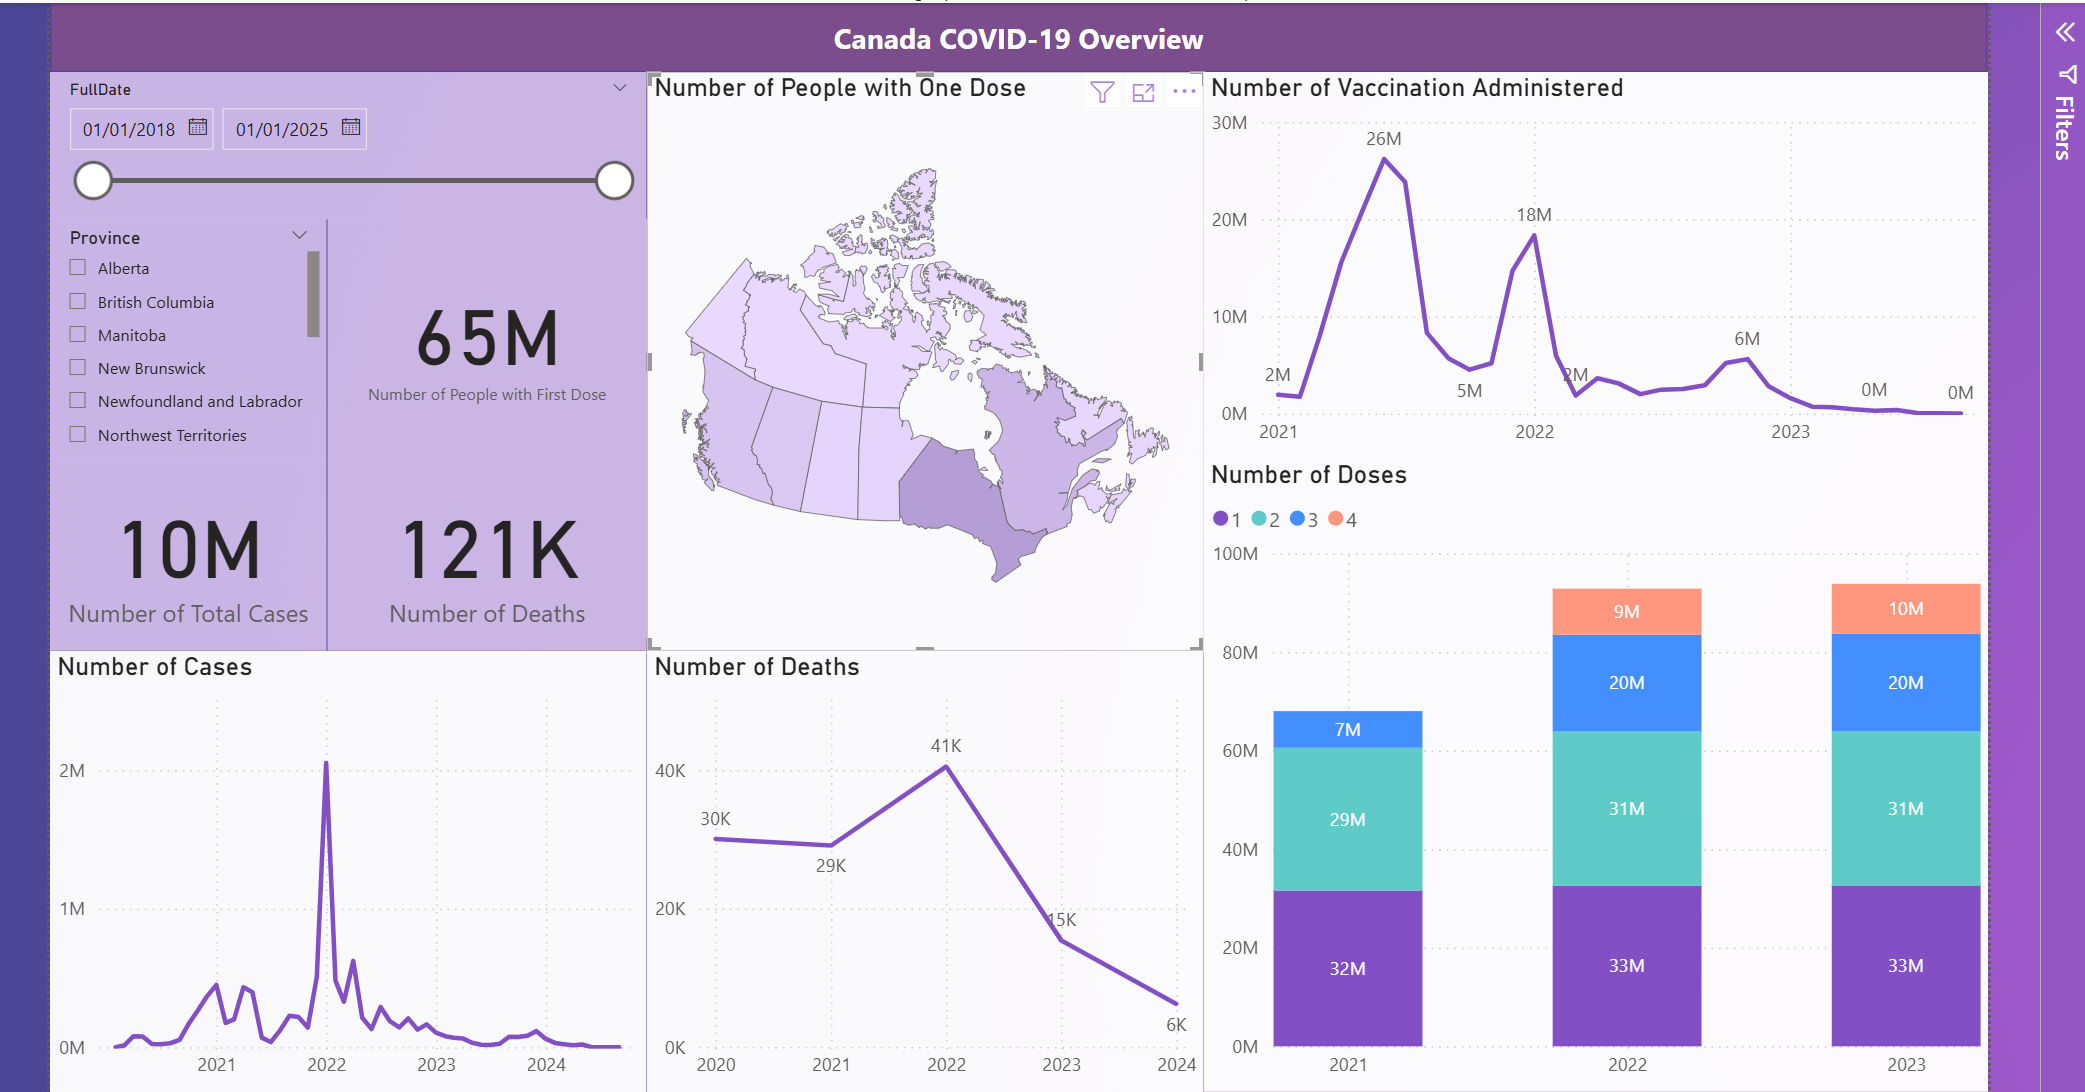

Layout of this report page (visuals, bound fields, positions):
{"tool":"powerbi","page":{"name":"Page 1","canvas":[1280,720],"ordinal":0},"visuals":[{"type":"shape","box":[0,0,1280,45.7],"z":0},{"type":"slicer","fields":{"Values":["dim_date.FullDate"]},"box":[0,45.7,393.9,97.3],"z":1000},{"type":"slicer","fields":{"Values":["dim_province.prname"]},"box":[0,143,182.9,158.5],"z":2000},{"type":"card","fields":{"Values":["Sum(fact_covid.numcases_weekly)"]},"box":[0,301.5,182.9,126.4],"z":3000},{"type":"card","fields":{"Values":["Sum(fact_covid.numdeaths_weekly)"]},"box":[182.9,301.5,211.1,126.4],"z":4000},{"type":"card","fields":{"Values":["Sum(fact_vaccination.First Vaccines this Week)"]},"box":[182.9,143,211.1,158.5],"z":5000},{"type":"shapeMap","title":"Number of People with One Dose","fields":{"Category":["dim_province.prname"],"Value":["Sum(fact_vaccination.First Vaccines this Week)"]},"box":[393.9,45.7,367.7,382.2],"z":6000},{"type":"lineChart","title":"Number of Cases","fields":{"Category":["dim_date.FullDate.Variation.Date Hierarchy.Year","dim_date.FullDate.Variation.Date Hierarchy.Month","dim_date.FullDate.Variation.Date Hierarchy.Day"],"Y":["Sum(fact_covid.numcases_weekly)"]},"box":[0,428.1,394,291.9],"z":7000},{"type":"lineChart","title":"Number of Deaths","fields":{"Category":["dim_date.FullDate.Variation.Date Hierarchy.Year","dim_date.FullDate.Variation.Date Hierarchy.Quarter","dim_date.FullDate.Variation.Date Hierarchy.Month","dim_date.FullDate.Variation.Date Hierarchy.Day"],"Y":["Sum(fact_covid.numdeaths_weekly)"]},"box":[393.9,428,367.7,291.8],"z":8000},{"type":"lineChart","title":"Number of Vaccination Administered","fields":{"Y":["Sum(fact_vaccination.Vaccines this Week)"],"Category":["dim_date.FullDate.Variation.Date Hierarchy.Year","dim_date.FullDate.Variation.Date Hierarchy.Month","dim_date.FullDate.Variation.Date Hierarchy.Day"]},"box":[761.6,45.7,518.4,255.8],"z":9000},{"type":"columnChart","title":"Number of Doses","fields":{"Category":["dim_date.FullDate.Variation.Date Hierarchy.Year","dim_date.FullDate.Variation.Date Hierarchy.Quarter","dim_date.FullDate.Variation.Date Hierarchy.Month","dim_date.FullDate.Variation.Date Hierarchy.Day"],"Y":["Max(fact_vaccination.numtotal_dose1_administered)","Max(fact_vaccination.numtotal_dose2_administered)","Max(fact_vaccination.numtotal_dose3_administered)","Max(fact_vaccination.numtotal_dose4_administered)"]},"box":[761.6,301.5,518.4,418.2],"z":9001}]}

Visuals, with their boxes in screenshot pixels (x1, y1, x2, y2):
shape: <box>43,0,2027,71</box>
slicer - dim_date.FullDate: <box>43,71,654,222</box>
slicer - dim_province.prname: <box>43,222,327,467</box>
card - Sum(fact_covid.numcases_weekly): <box>43,467,327,663</box>
card - Sum(fact_covid.numdeaths_weekly): <box>327,467,654,663</box>
card - Sum(fact_vaccination.First Vaccines this Week): <box>327,222,654,467</box>
"Number of People with One Dose" shapeMap: <box>654,71,1224,663</box>
"Number of Cases" lineChart: <box>43,663,654,1091</box>
"Number of Deaths" lineChart: <box>654,663,1224,1091</box>
"Number of Vaccination Administered" lineChart: <box>1224,71,2027,467</box>
"Number of Doses" columnChart: <box>1224,467,2027,1091</box>
